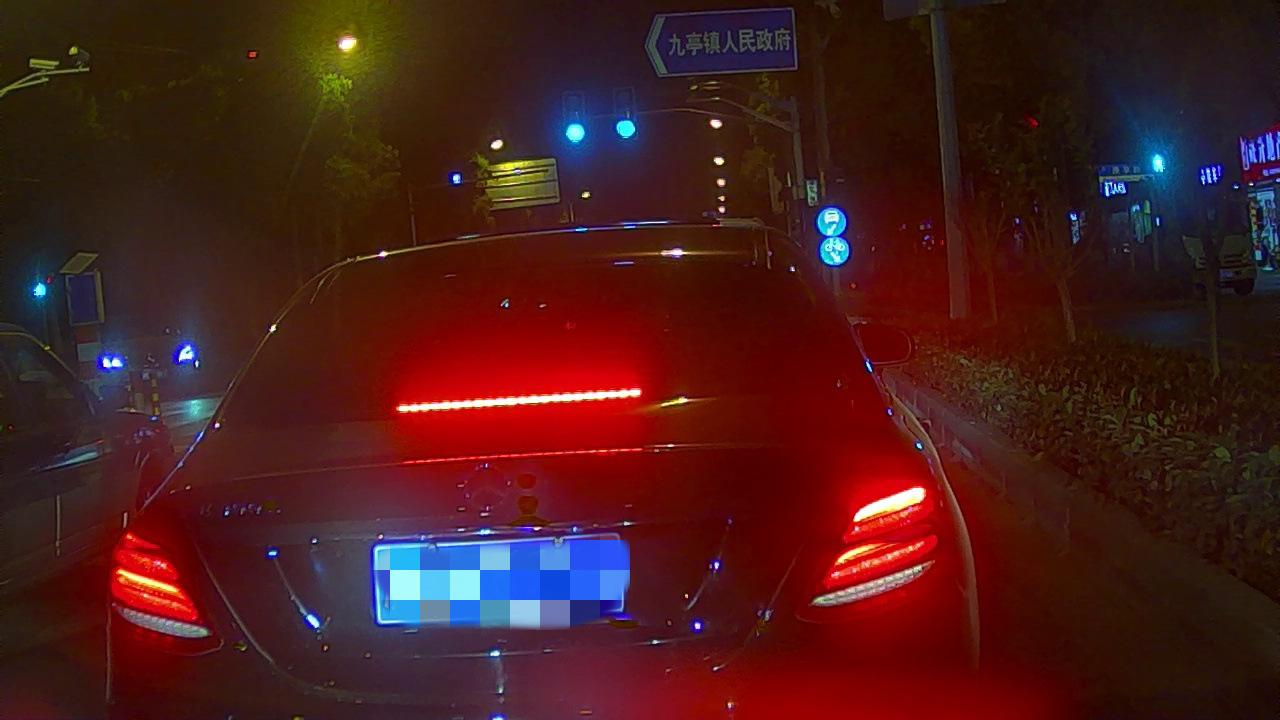traffic_light: (613, 90, 637, 143), (563, 94, 587, 146)
